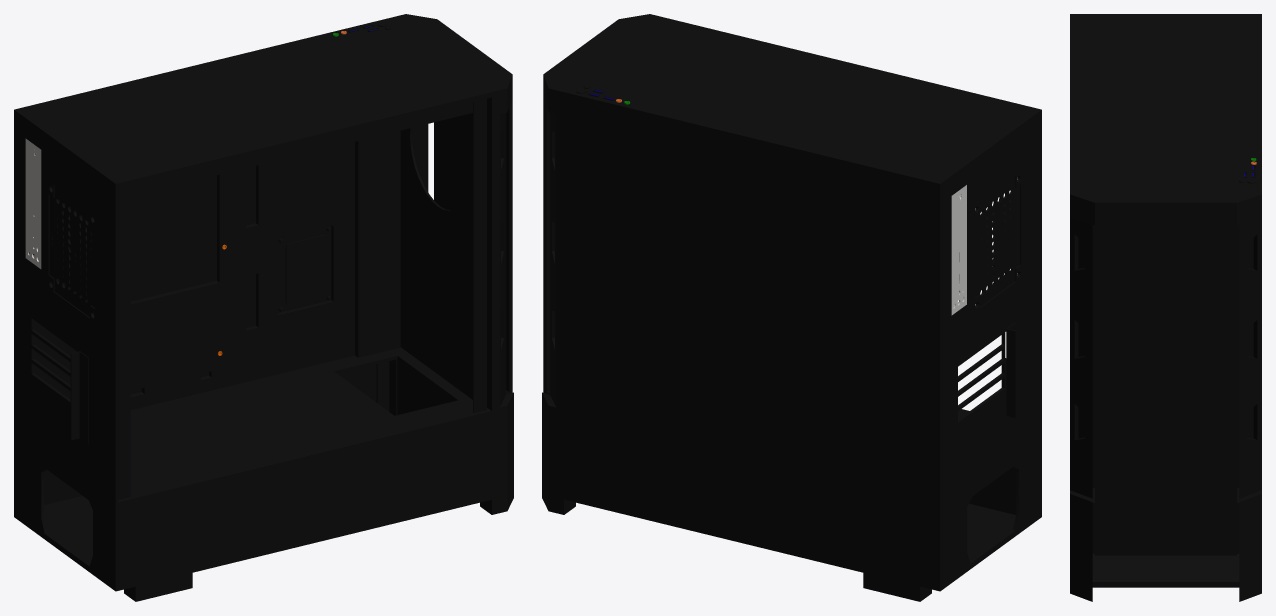
Rendered from Korpys.fbx.
The picture shows the model from 3 angles, left to right: view 1: azimuth 30°, elevation 25°; view 2: azimuth 150°, elevation 25°; view 3: azimuth 270°, elevation 25°; orthographic projection. The views are drawn at different scales.
Visible parts, largest first — view 1: Korpys, Kryshka_zad, Panel, kreplenie; view 2: Kryshka_zad, Korpys, Panel, kreplenie; view 3: Korpys.
Part boxes in pixels (left/top/right/bottom): Korpys: left=14, top=14, right=513, bottom=601; Kryshka_zad: left=44, top=166, right=376, bottom=505; Panel: left=25, top=138, right=41, bottom=268; kreplenie: left=70, top=351, right=88, bottom=444; Kryshka_zad: left=564, top=97, right=937, bottom=584; Korpys: left=542, top=14, right=1041, bottom=601; Panel: left=951, top=185, right=966, bottom=315; kreplenie: left=1006, top=323, right=1015, bottom=417; Korpys: left=1070, top=14, right=1261, bottom=601.
Bounding box in the file's own units: 0.5481 × 0.5299 × 0.23.
